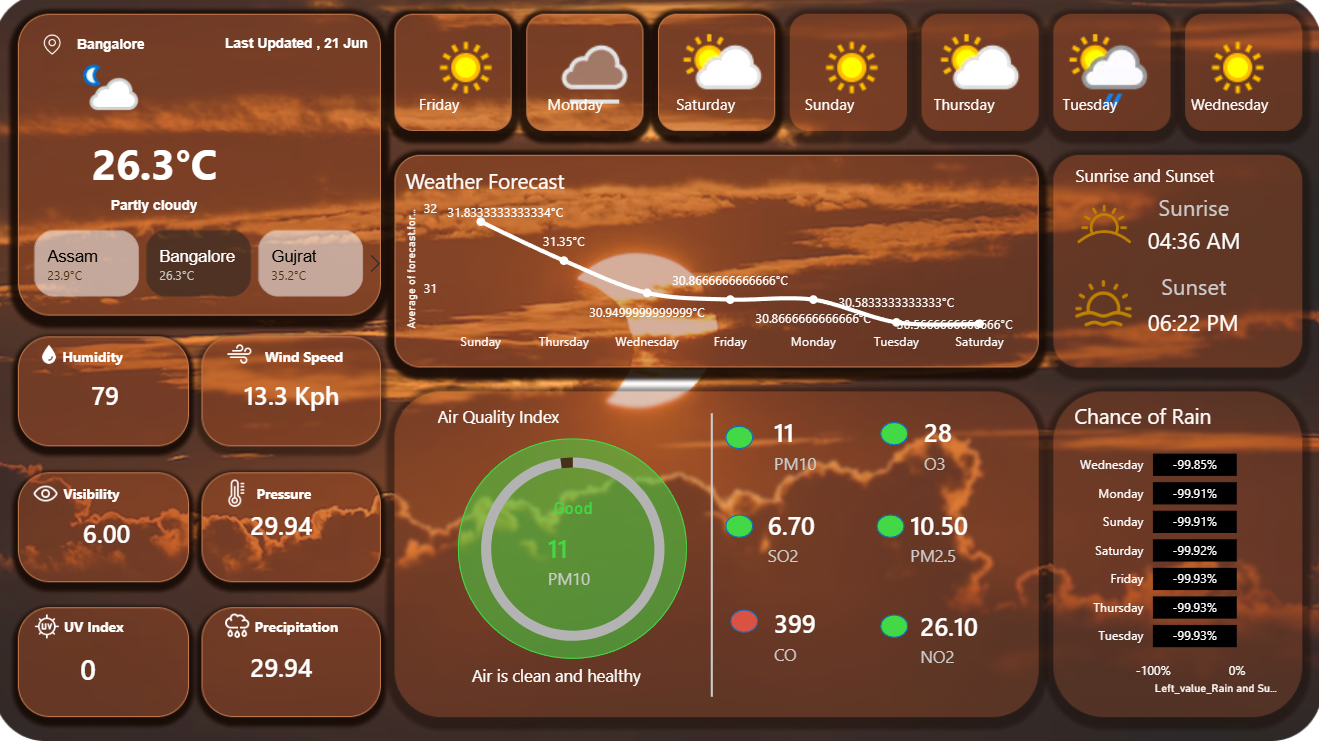

This screenshot's page, from the dashboard's own definition file:
{"tool":"powerbi","page":{"name":"Page 1","canvas":[1280,720],"ordinal":0},"visuals":[{"type":"shape","box":[446.5,425.4,221.1,212.7],"z":0},{"type":"advancedSlicerVisual","fields":{"Values":["Location.location.name"]},"box":[13.7,219.6,369.1,75.5],"z":1000},{"type":"shape","box":[53.5,94.7,203.1,129],"z":2000},{"type":"shape","box":[53.2,172.4,202.6,57.5],"z":3000},{"type":"shape","box":[19.2,16.5,186.6,57.6],"z":4000},{"type":"shape","box":[199,22,185.2,46.7],"z":5000},{"type":"cardVisual","fields":{"Data":["Min(Current_data.current.condition.icon)"]},"box":[0,22,223.7,122.1],"z":6000},{"type":"image","box":[19.2,35.7,74.1,19.2],"z":7000},{"type":"cardVisual","fields":{"Data":["Sum(Current_data.current.humidity)"]},"box":[64.5,322.5,122.1,120.8],"z":8000},{"type":"image","box":[35.7,455.6,27.4,46.7],"z":9000},{"type":"shape","box":[1.4,455.6,185.2,46.7],"z":10000},{"type":"image","box":[43.9,330.7,19.2,28.8],"z":11000},{"type":"shape","box":[2.7,322.5,185.2,46.7],"z":12000},{"type":"image","box":[38.4,568.1,24.7,75.5],"z":13000},{"type":"shape","box":[4.1,583.2,185.2,46.7],"z":14000},{"type":"image","box":[223.7,330.7,24.7,27.4],"z":15000},{"type":"shape","box":[205.8,322.5,185.2,46.7],"z":16000},{"type":"image","box":[199,465.2,70,26.1],"z":17000},{"type":"shape","box":[186.6,455.6,185.2,46.7],"z":18000},{"type":"image","box":[207.2,591.4,54.9,28.8],"z":19000},{"type":"shape","box":[199,583.2,185.2,46.7],"z":20000},{"type":"cardVisual","fields":{"Data":["_Measures.Wind_Speed"]},"box":[212.2,321.9,159.5,121.1],"z":21000},{"type":"cardVisual","fields":{"Data":["Sum(Current_data.current.pressure_in)"]},"box":[217.9,447.2,148.1,121.1],"z":22000},{"type":"cardVisual","fields":{"Data":["Sum(Current_data.current.pressure_in)"]},"box":[217.9,583.9,148.1,121.1],"z":23000},{"type":"cardVisual","fields":{"Data":["Sum(Current_data.current.vis_km)"]},"box":[57,455.7,122.5,121.1],"z":24000},{"type":"cardVisual","fields":{"Data":["Sum(Current_data.current.uv)"]},"box":[54.1,585.3,122.5,121.1],"z":25000},{"type":"advancedSlicerVisual","fields":{"Values":["forecast_day.Day_Name"]},"box":[391.1,0,875.5,133.1],"z":26000},{"type":"lineChart","title":"Weather Forecast","fields":{"Y":["Avg(forecast_day.forecast.forecastday.day.avgtemp_c)"],"Category":["forecast_day.Day_Name"]},"box":[391.3,155.9,599.7,194.9],"z":27000},{"type":"shape","box":[1035.7,151,146.5,42.3],"z":28000},{"type":"cardVisual","fields":{"Data":["Min(forecast_day.Sunset_Date)"]},"box":[1082.7,281.3,150.9,64.5],"z":29000},{"type":"cardVisual","fields":{"Data":["Min(forecast_day.Sunrise_Date)"]},"box":[1082.7,205.8,150.9,54.9],"z":30000},{"type":"shape","box":[1082.7,183.9,146.8,35.7],"z":31000},{"type":"shape","box":[1082.7,258,146.8,41.2],"z":32000},{"type":"image","box":[1030.5,267.6,78.2,54.9],"z":33000},{"type":"image","box":[1025,183.9,89.2,68.6],"z":34000},{"type":"hundredPercentStackedBarChart","title":"Chance of Rain","fields":{"Y":["Current_data.Left_value_Rain","Sum(Current_data.current.chance_of_rain)"],"Category":["forecast_day.Day_Name"]},"box":[1035.9,382.3,220.4,295.3],"z":35000},{"type":"shape","box":[413.8,382.3,145.4,43.5],"z":36000},{"type":"cardVisual","fields":{"Data":["Sum(Current_data.current.air_quality.o3)"]},"box":[868,383.8,106.4,94.4],"z":37000},{"type":"cardVisual","fields":{"Data":["Sum(Current_data.current.air_quality.pm2_5)"]},"box":[854.5,473.7,136.4,94.4],"z":38000},{"type":"cardVisual","fields":{"Data":["Sum(Current_data.current.air_quality.no2)"]},"box":[863.5,571.2,119.9,94.4],"z":39000},{"type":"cardVisual","fields":{"Data":["Sum(Current_data.current.air_quality.co)"]},"box":[722.6,568.2,106.4,94.4],"z":40000},{"type":"cardVisual","fields":{"Data":["Sum(Current_data.current.air_quality.so2)"]},"box":[716.6,473.7,118.4,94.4],"z":41000},{"type":"cardVisual","fields":{"Data":["Sum(Current_data.current.air_quality.pm10)"]},"box":[722.6,383.8,106.4,94.4],"z":42000},{"type":"shape","box":[704.6,413.8,27,22.5],"z":43000},{"type":"shape","box":[704.6,499.2,27,22.5],"z":44000},{"type":"shape","box":[709.1,590.7,27,22.5],"z":45000},{"type":"shape","box":[854.5,595.2,27,22.5],"z":46000},{"type":"shape","box":[850,499.2,27,22.5],"z":47000},{"type":"shape","box":[854.5,409.3,27,22.5],"z":48000},{"type":"shape","box":[639.4,401.4,104.2,273.2],"z":49000},{"type":"cardVisual","fields":{"Data":["Sum(Current_data.current.air_quality.pm10)"]},"box":[504.2,481.7,107,102.8],"z":50000},{"type":"donutChart","fields":{"Y":["_Measures.Left_value_PM10","Sum(Current_data.current.air_quality.pm10)"]},"box":[431,416.9,253.5,231],"z":51000},{"type":"shape","box":[414.1,632.4,254.9,42.3],"z":52000}]}

Visuals, with their boxes in screenshot pixels (x1, y1, x2, y2), scaled from the page's 1280x720 canvas onto the 1319x743 screenshot:
shape: rect(460, 439, 688, 658)
advancedSlicerVisual - Location.location.name: rect(14, 227, 394, 305)
shape: rect(55, 98, 264, 231)
shape: rect(55, 178, 264, 237)
shape: rect(20, 17, 212, 76)
shape: rect(205, 23, 396, 71)
cardVisual - Min(Current_data.current.condition.icon): rect(0, 23, 231, 149)
image: rect(20, 37, 96, 57)
cardVisual - Sum(Current_data.current.humidity): rect(66, 333, 192, 457)
image: rect(37, 470, 65, 518)
shape: rect(1, 470, 192, 518)
image: rect(45, 341, 65, 371)
shape: rect(3, 333, 194, 381)
image: rect(40, 586, 65, 664)
shape: rect(4, 602, 195, 650)
image: rect(231, 341, 256, 370)
shape: rect(212, 333, 403, 381)
image: rect(205, 480, 277, 507)
shape: rect(192, 470, 383, 518)
image: rect(214, 610, 270, 640)
shape: rect(205, 602, 396, 650)
cardVisual - _Measures.Wind_Speed: rect(219, 332, 383, 457)
cardVisual - Sum(Current_data.current.pressure_in): rect(225, 461, 377, 586)
cardVisual - Sum(Current_data.current.pressure_in): rect(225, 603, 377, 728)
cardVisual - Sum(Current_data.current.vis_km): rect(59, 470, 185, 595)
cardVisual - Sum(Current_data.current.uv): rect(56, 604, 182, 729)
advancedSlicerVisual - forecast_day.Day_Name: rect(403, 0, 1305, 137)
"Weather Forecast" lineChart: rect(403, 161, 1021, 362)
shape: rect(1067, 156, 1218, 199)
cardVisual - Min(forecast_day.Sunset_Date): rect(1116, 290, 1271, 357)
cardVisual - Min(forecast_day.Sunrise_Date): rect(1116, 212, 1271, 269)
shape: rect(1116, 190, 1267, 227)
shape: rect(1116, 266, 1267, 309)
image: rect(1062, 276, 1142, 333)
image: rect(1056, 190, 1148, 261)
"Chance of Rain" hundredPercentStackedBarChart: rect(1067, 395, 1295, 699)
shape: rect(426, 395, 576, 439)
cardVisual - Sum(Current_data.current.air_quality.o3): rect(894, 396, 1004, 493)
cardVisual - Sum(Current_data.current.air_quality.pm2_5): rect(881, 489, 1021, 586)
cardVisual - Sum(Current_data.current.air_quality.no2): rect(890, 589, 1013, 687)
cardVisual - Sum(Current_data.current.air_quality.co): rect(745, 586, 854, 684)
cardVisual - Sum(Current_data.current.air_quality.so2): rect(738, 489, 860, 586)
cardVisual - Sum(Current_data.current.air_quality.pm10): rect(745, 396, 854, 493)
shape: rect(726, 427, 754, 450)
shape: rect(726, 515, 754, 538)
shape: rect(731, 610, 759, 633)
shape: rect(881, 614, 908, 637)
shape: rect(876, 515, 904, 538)
shape: rect(881, 422, 908, 446)
shape: rect(659, 414, 766, 696)
cardVisual - Sum(Current_data.current.air_quality.pm10): rect(520, 497, 630, 603)
donutChart - _Measures.Left_value_PM10 x Sum(Current_data.current.air_quality.pm10): rect(444, 430, 705, 669)
shape: rect(427, 653, 689, 696)
